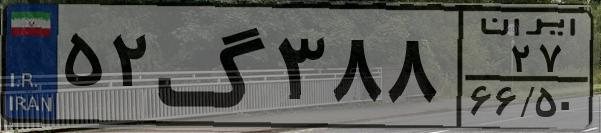0: (560, 70, 590, 125)
2: (110, 28, 156, 98), (508, 27, 537, 80)
3: (270, 28, 330, 110)
5: (57, 26, 110, 100), (535, 70, 560, 125)
6: (470, 70, 495, 125), (495, 70, 520, 125)
7: (537, 27, 568, 80)
8: (385, 28, 445, 110), (330, 28, 385, 110)
گ: (156, 12, 270, 120)
